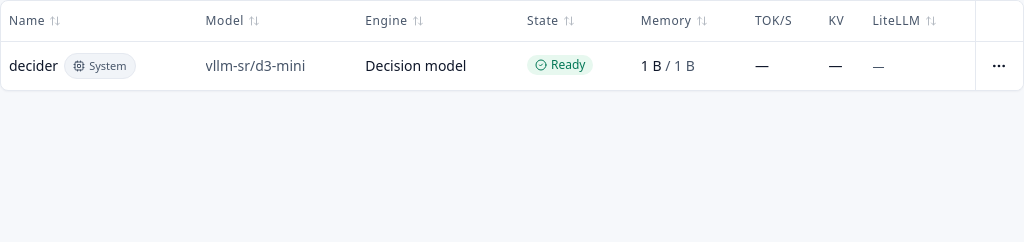
DeploymentsTable › shows no LiteLLM registration badge for a system deployment, and manages it on the Decision model page
Expected: the element titled "System deployments aren't registered in LiteLLM" is shown, [872,58,884,74]
Click the button named "Actions for decider": (999, 66) [983,50,1015,82]
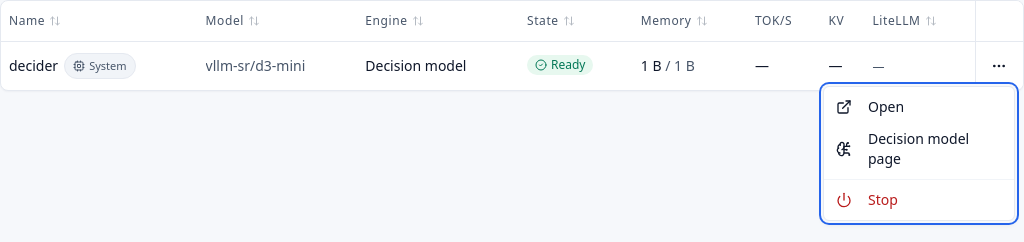
Now the menu item "Decision model page" is shown, box [836,129,969,168]
